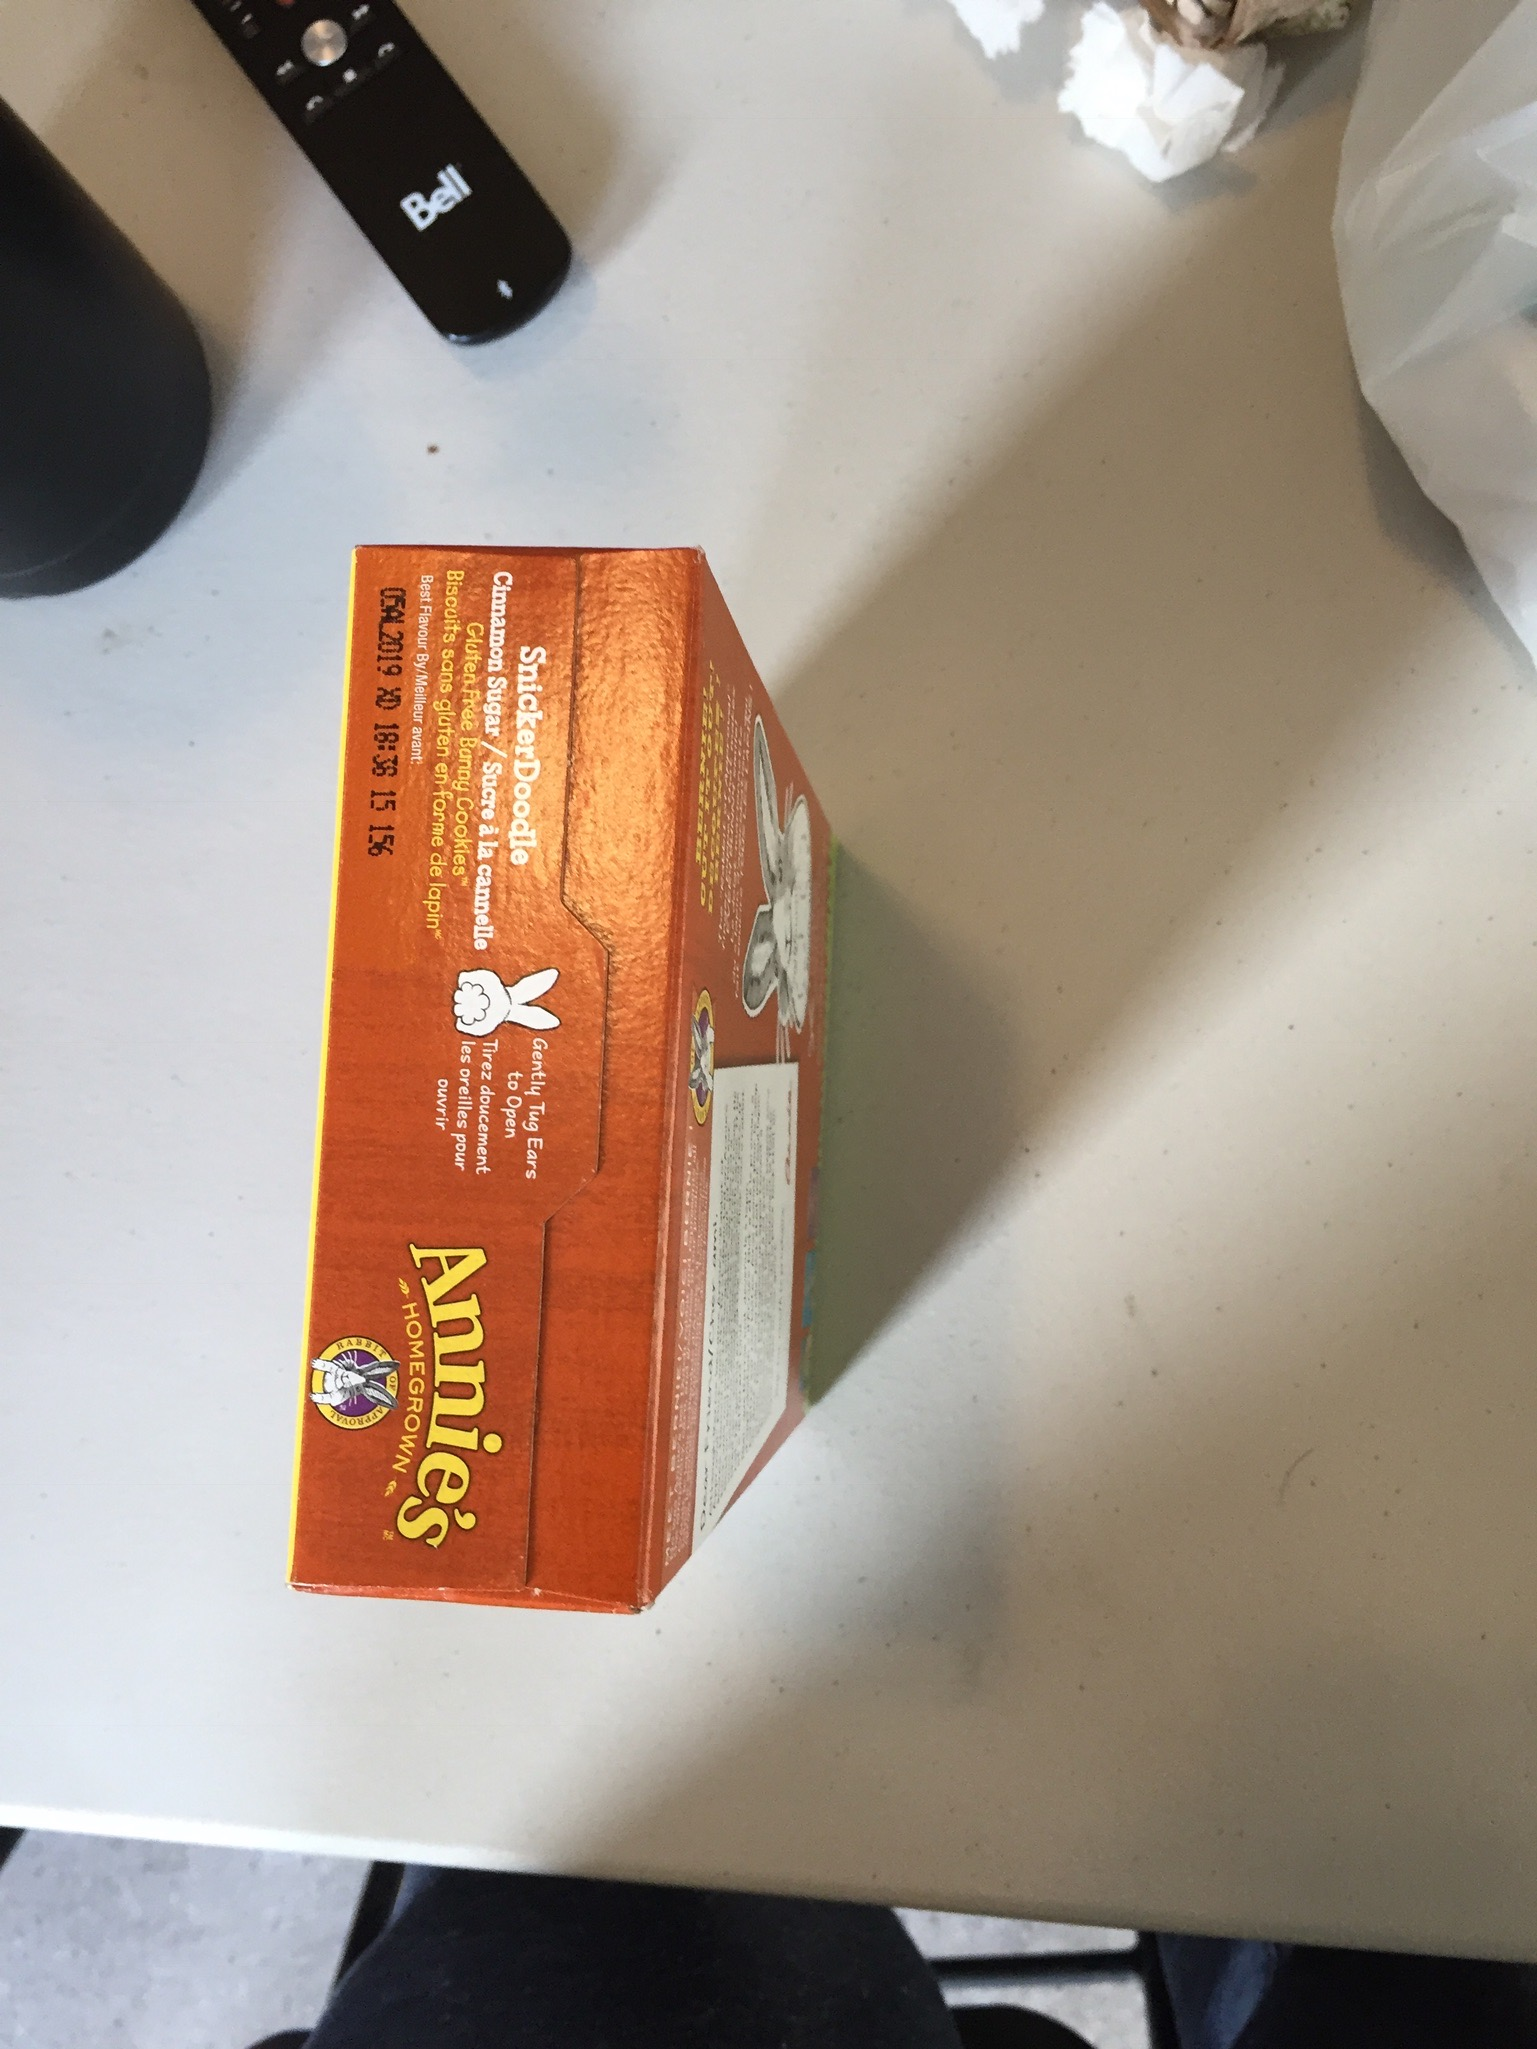annies_snickerdoodles_cinnamon_sugar: (352, 552, 754, 1592)
